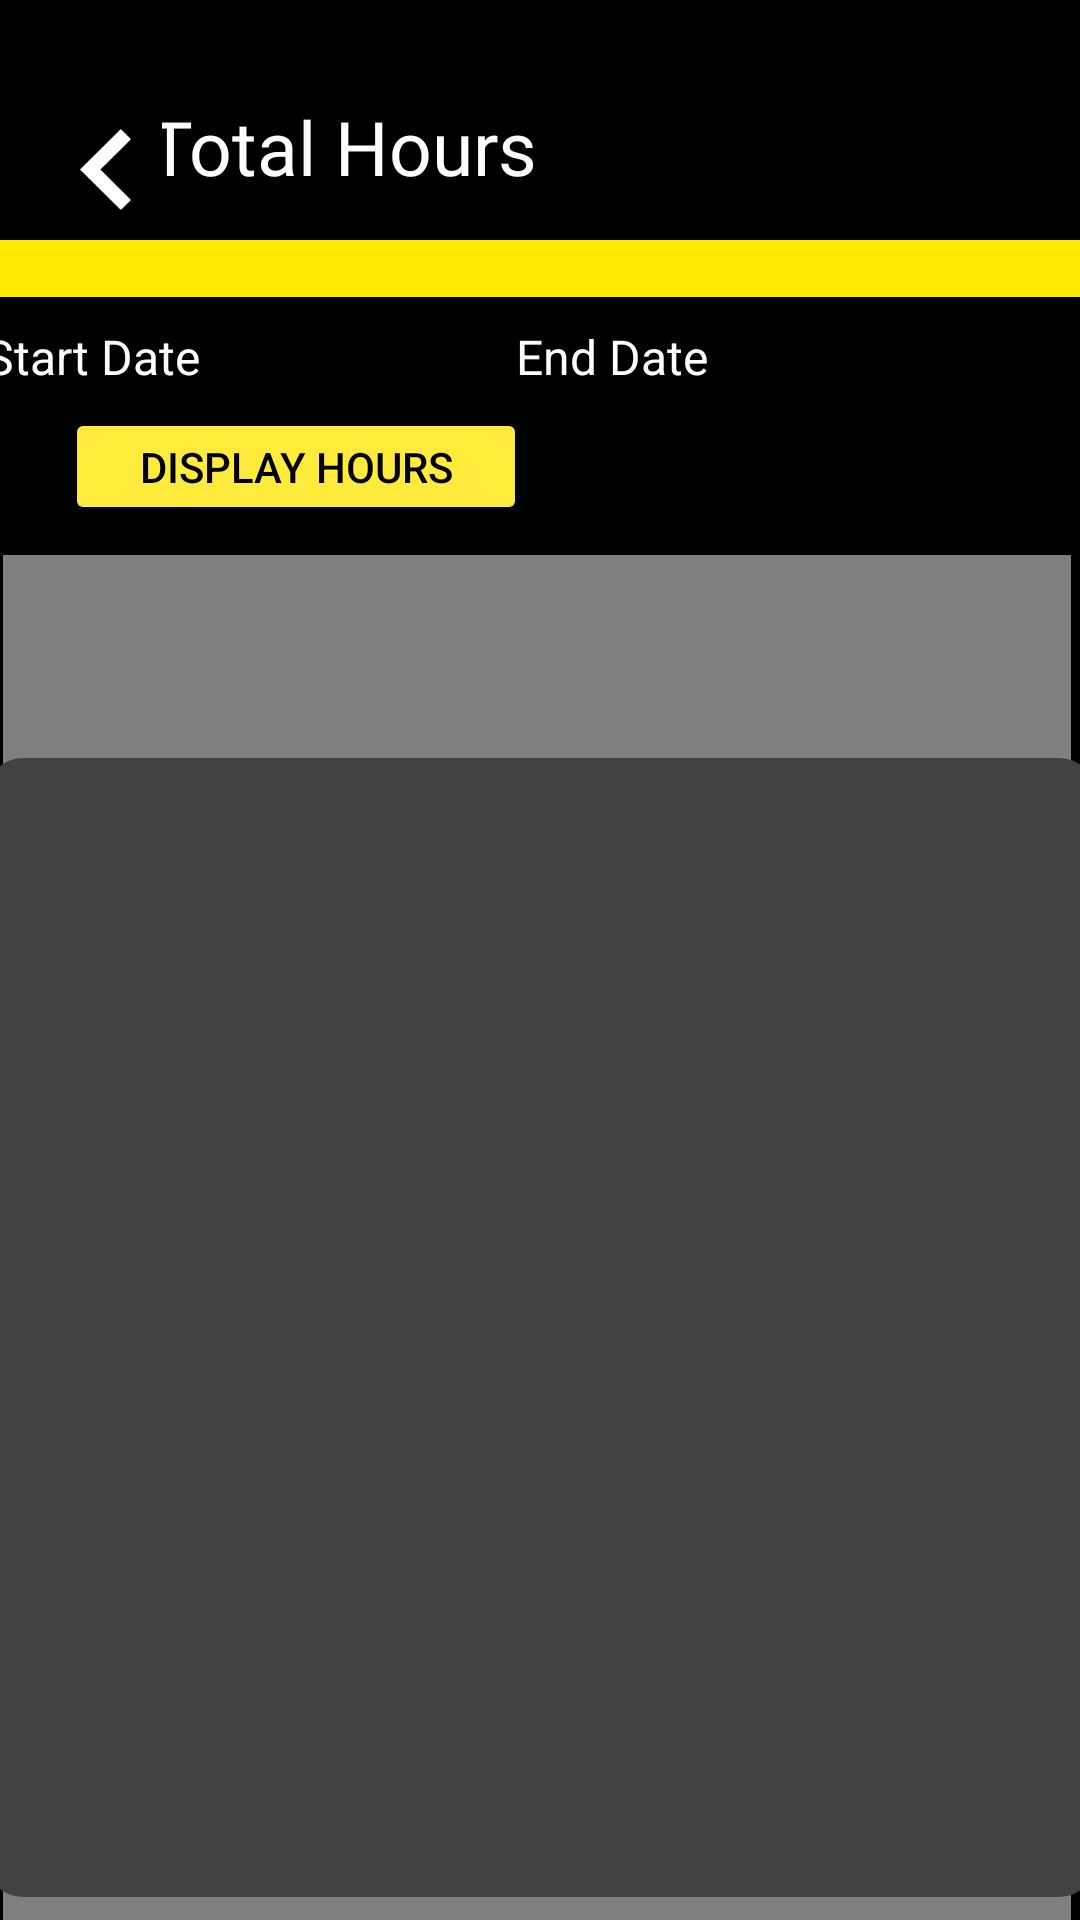

Named icons in this screenshot (1080px×1920px) and their centers, (x=x, y=y):
backarrowsymbol: (x=105, y=169)
